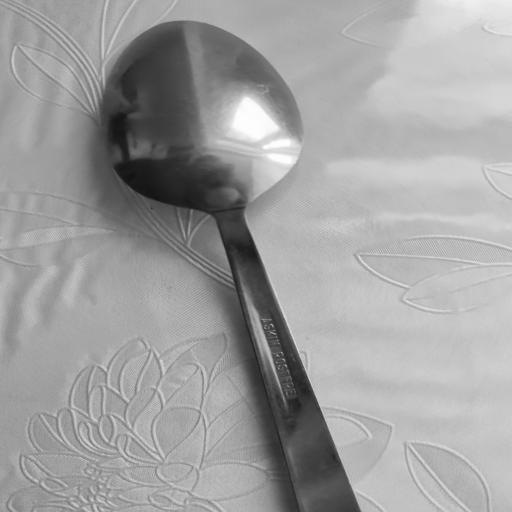spoon: (98, 17, 369, 512)
